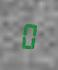zero: (19, 19, 36, 50)
